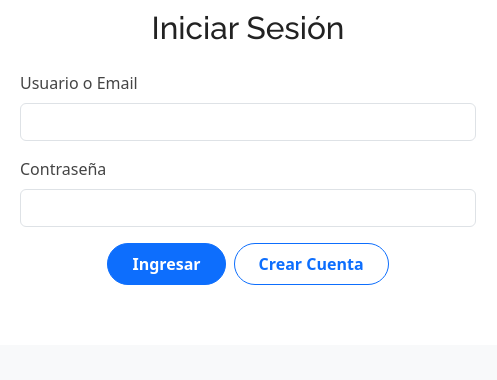
Test: Auth - Login › muestra error si la contraseña es incorrecta
Type "test@ex.com" into the field labelled "Usuario o Email" at (248, 122), box [20,103,476,141]
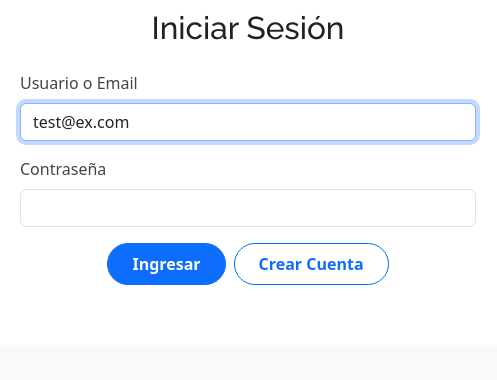
Type "wrong" into the password field labelled "Contraseña" at (248, 208), box [20,189,476,227]
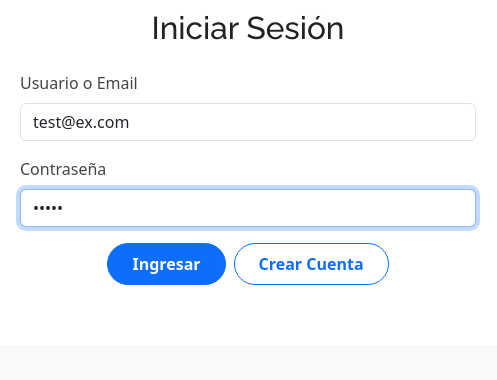
Click the button "Ingresar" at (166, 264), box [107,243,226,285]
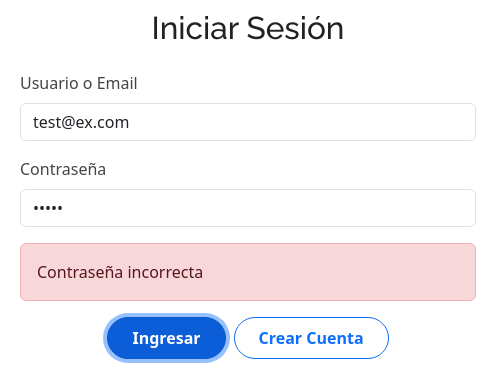
Expected: the text "Contraseña incorrecta" is shown, [20,243,476,301]
